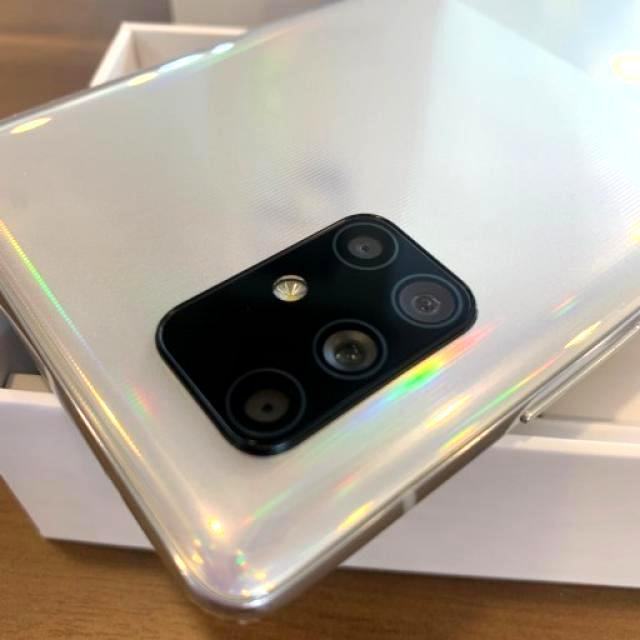lens_back: (219, 360, 310, 440), (388, 266, 468, 337), (314, 315, 389, 387), (328, 215, 404, 275)
